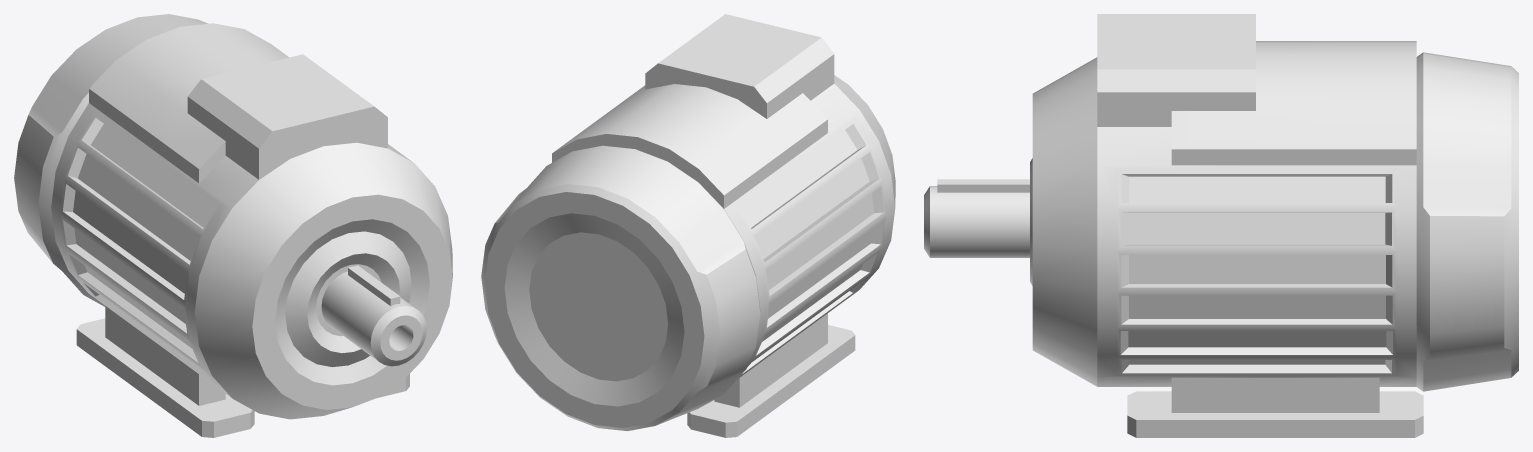
Rendered from ElectricMotor.fbx.
The picture shows the model from 3 angles, left to right: view 1: azimuth 30°, elevation 25°; view 2: azimuth 150°, elevation 25°; view 3: azimuth 270°, elevation 25°; orthographic projection. The views are drawn at different scales.
Visible parts, largest first — view 1: ElectricMotor; view 2: ElectricMotor; view 3: ElectricMotor.
Boxes of the visible parts, box(x1,y1,x2,y2) form: ElectricMotor: box(14, 14, 452, 437); ElectricMotor: box(481, 14, 895, 437); ElectricMotor: box(924, 14, 1518, 437).
Size of the model in its own units: 48.94 by 52.68 by 83.56.
